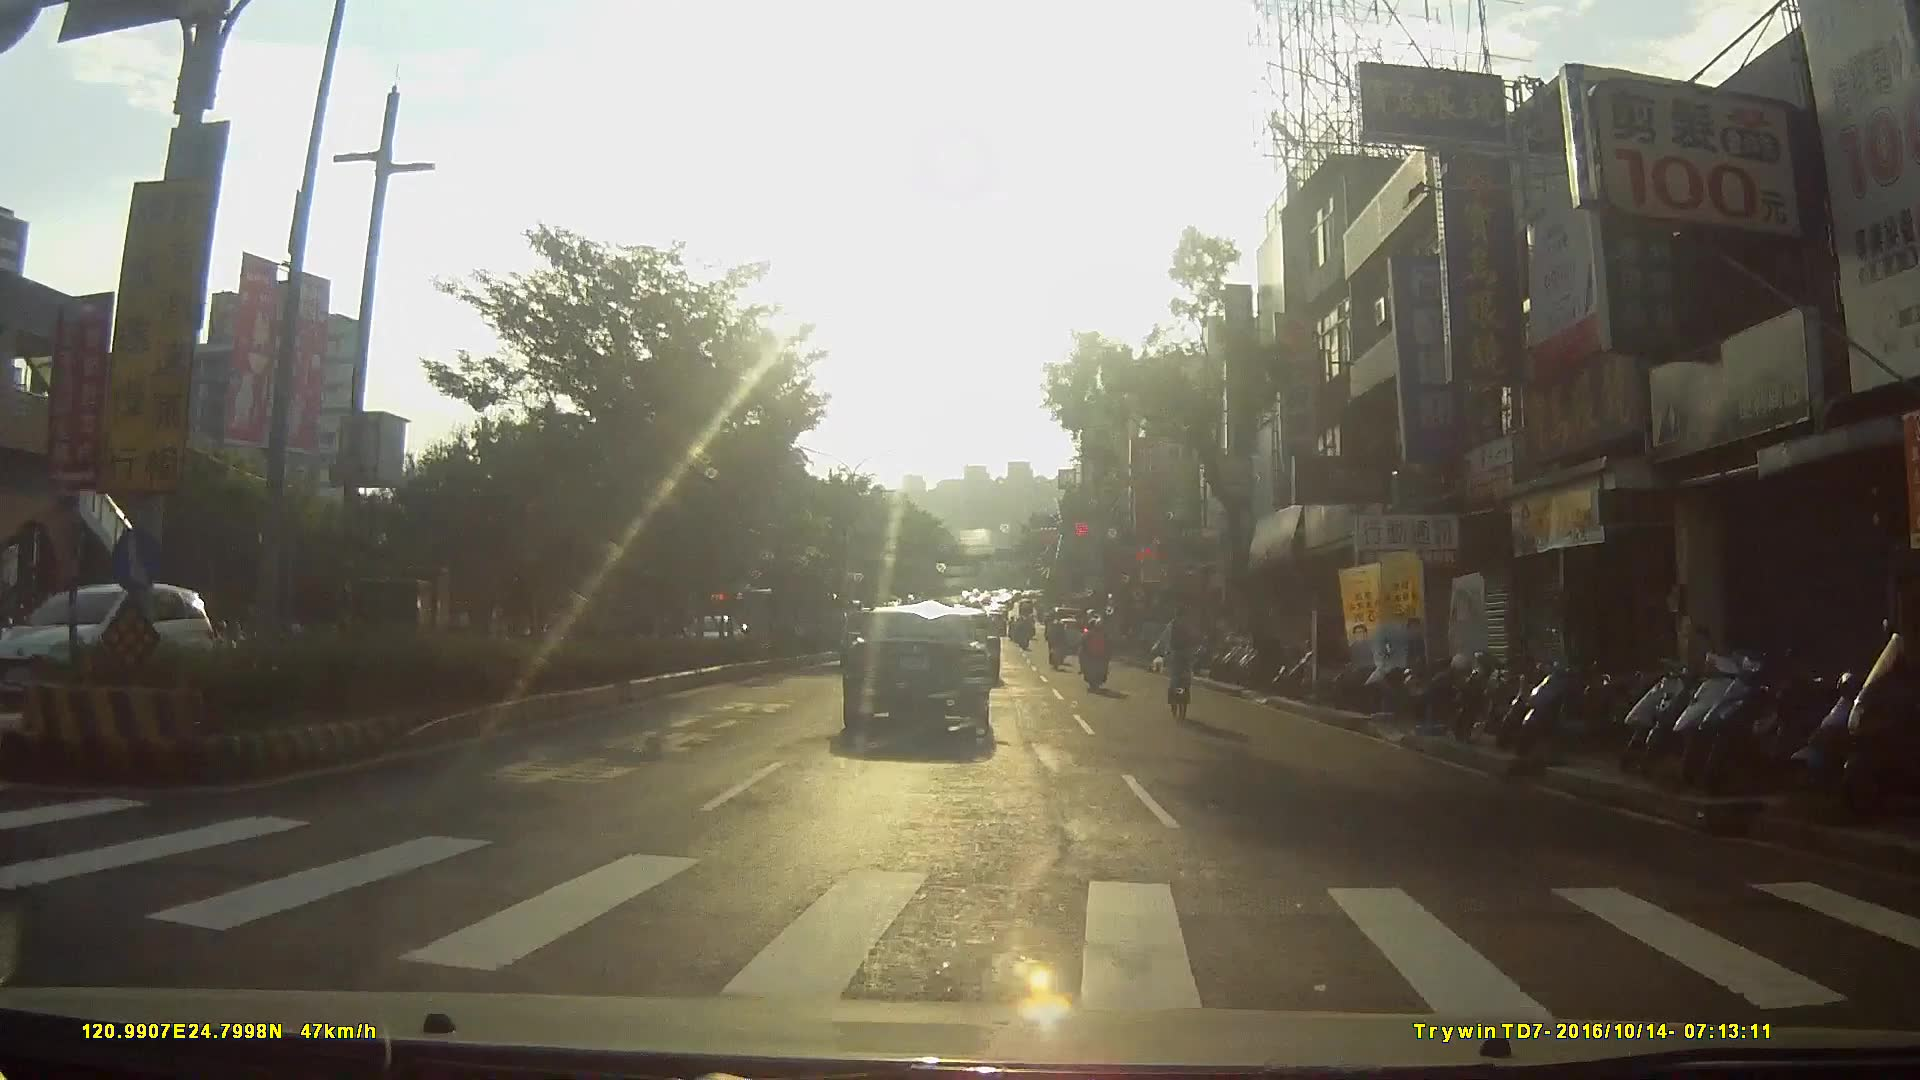rider: (1153, 599, 1207, 719), (1080, 613, 1114, 688), (1046, 618, 1069, 670)
vehicle: (9, 583, 211, 709), (842, 606, 1003, 751)
